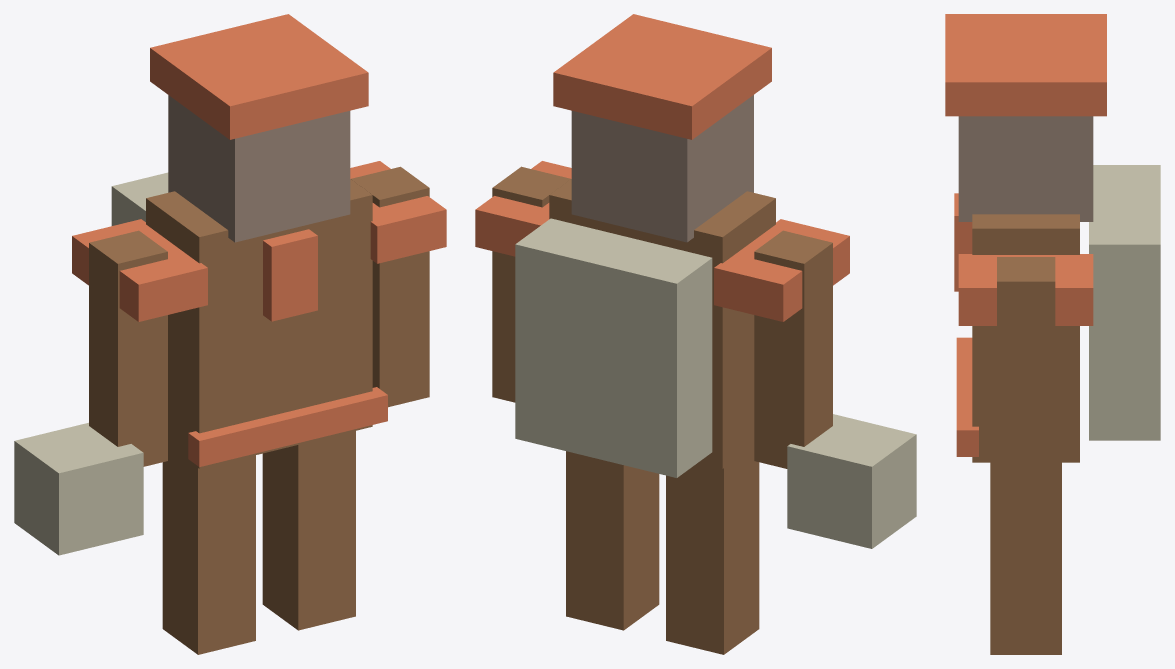
The model's file is 18_varren_deepwell_broker_near_tactical.glb.
The picture shows the model from 3 angles, left to right: view 1: azimuth 30°, elevation 25°; view 2: azimuth 150°, elevation 25°; view 3: azimuth 270°, elevation 25°; orthographic projection.
Parts seen in each view (by area): view 1: Varren Deepwell, Broker near Tactical; view 2: Varren Deepwell, Broker near Tactical; view 3: Varren Deepwell, Broker near Tactical.
Part boxes in pixels (left/top/right/bottom): Varren Deepwell, Broker near Tactical: left=14, top=14, right=446, bottom=654; Varren Deepwell, Broker near Tactical: left=475, top=14, right=916, bottom=654; Varren Deepwell, Broker near Tactical: left=945, top=14, right=1160, bottom=654.
Size of the model in its own units: 1.06 by 1.49 by 0.5116.
